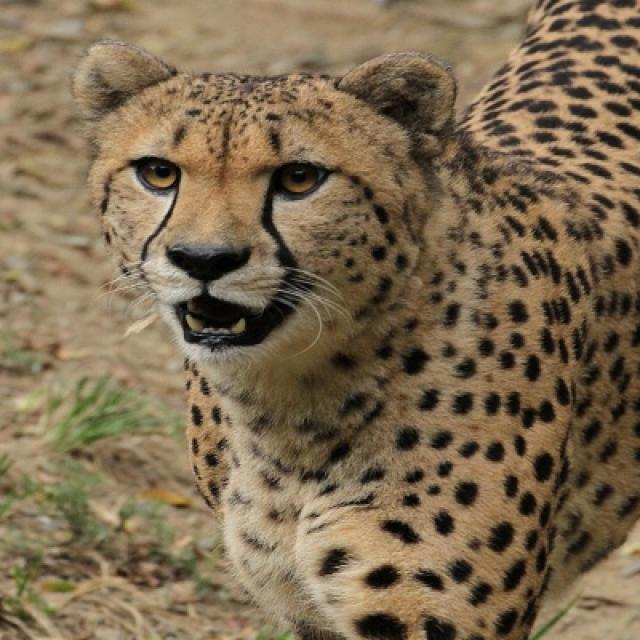Cheetah: (74, 6, 638, 638)
